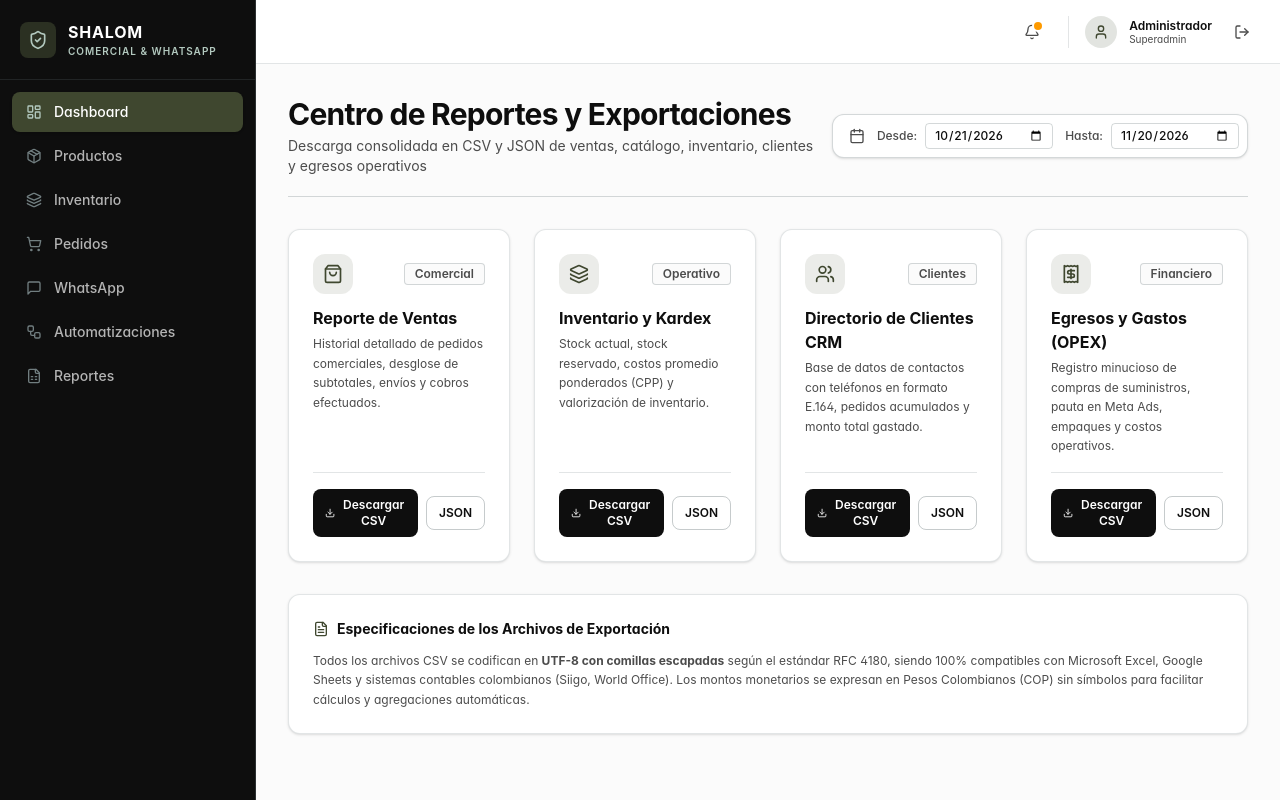
it: ReportsPage export › downloads the report from the API base URL with auth
Click the button "Descargar CSV" below "Reporte de Ventas" at (366, 512), box [313,488,418,536]
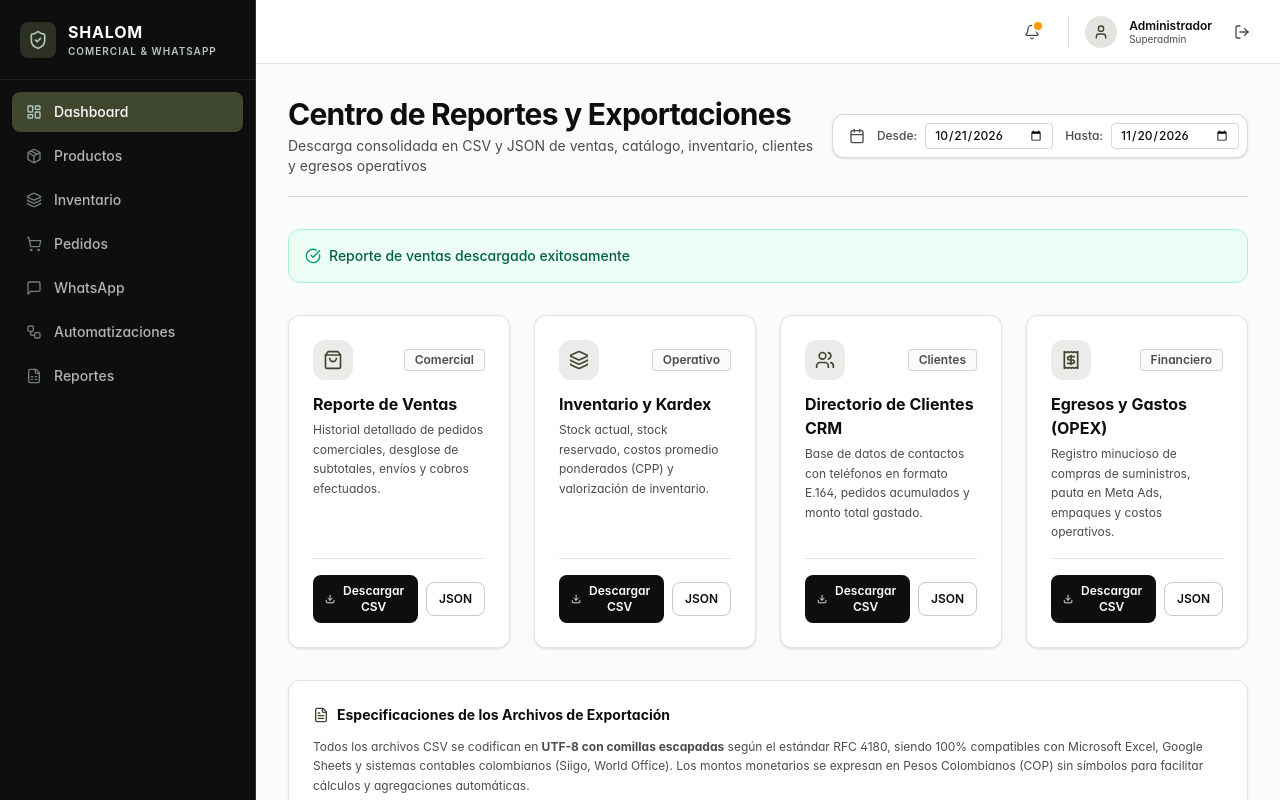
Expected: the text "Reporte de ventas descargado exitosamente" is shown, [288,229,1248,283]
